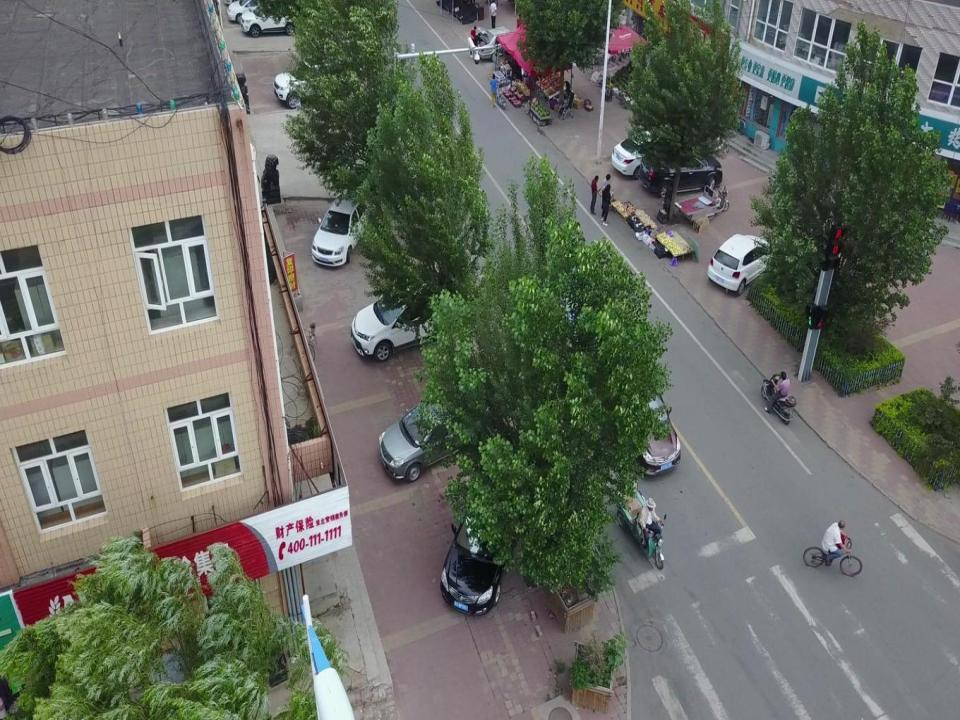car: (441, 477, 528, 615), (377, 388, 490, 483), (350, 280, 470, 362), (606, 366, 679, 477), (273, 54, 357, 108), (705, 234, 773, 296), (312, 192, 368, 267), (612, 123, 689, 176), (638, 152, 725, 196), (241, 0, 307, 40), (469, 26, 521, 61)
